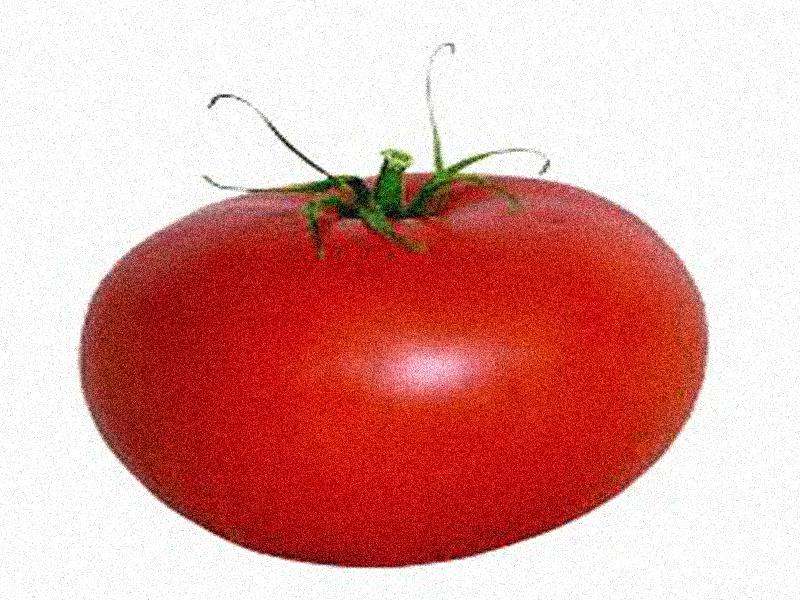Tomato: (85, 173, 701, 565)
